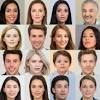face: (29, 82, 44, 95), (54, 82, 69, 95), (80, 82, 95, 95), (5, 7, 18, 21), (31, 6, 44, 20), (55, 6, 68, 20), (81, 6, 94, 20), (30, 33, 43, 47), (5, 31, 18, 45), (55, 31, 68, 45), (81, 31, 94, 45), (81, 56, 94, 70), (55, 56, 68, 70), (30, 57, 43, 71), (5, 57, 18, 71), (5, 82, 18, 96)
